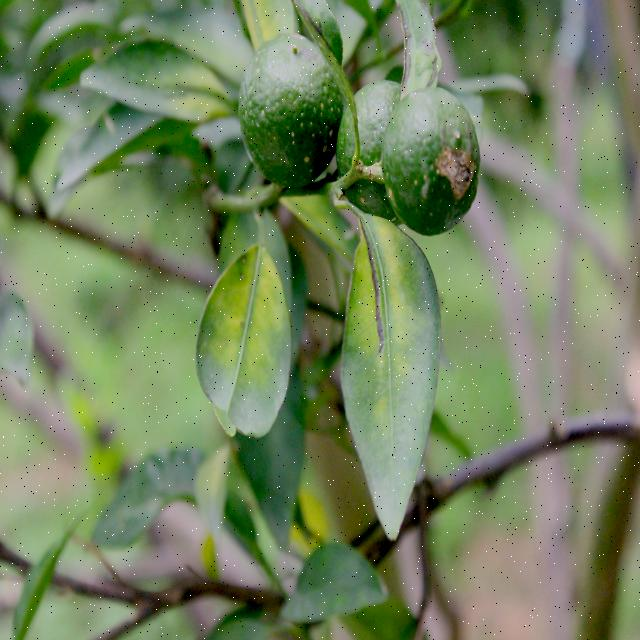greening: (344, 248, 450, 498), (202, 247, 294, 439)
